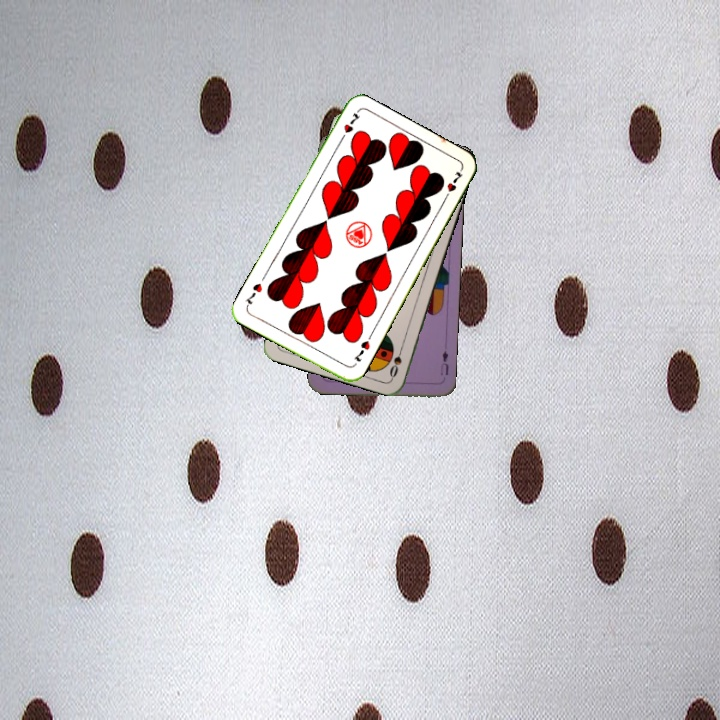EU: (436, 347, 451, 378)
H7: (335, 108, 363, 145), (350, 336, 372, 365)
SO: (385, 341, 406, 380)
